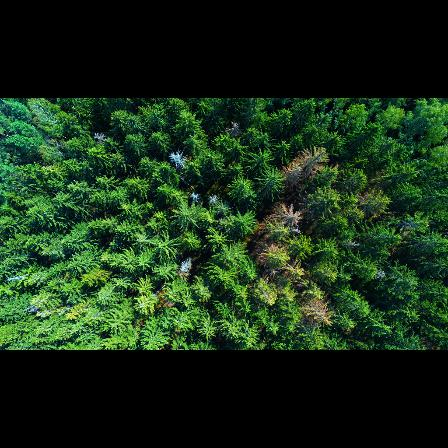Dead: (304, 295, 334, 326), (269, 200, 302, 227), (303, 142, 330, 172), (278, 160, 304, 190), (166, 147, 191, 171), (178, 256, 196, 276), (206, 191, 221, 207), (190, 190, 204, 204)
